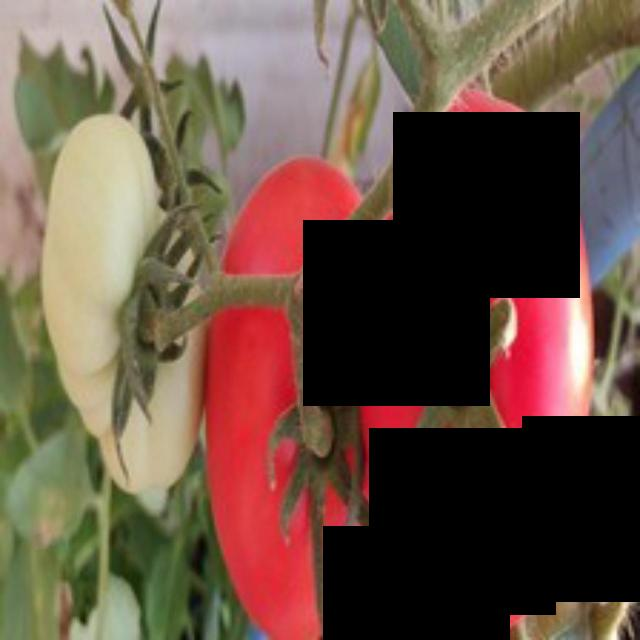tomato: (342, 83, 600, 637), (200, 140, 431, 637)
